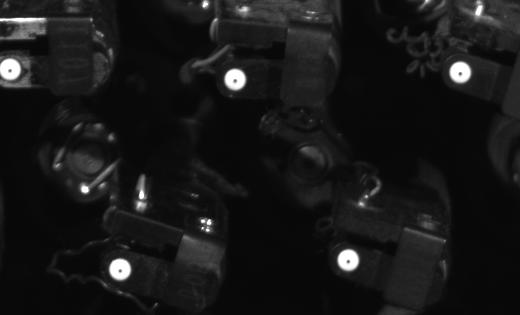fiber: (333, 245, 366, 276), (221, 65, 252, 96), (105, 255, 138, 283), (445, 58, 475, 87), (1, 55, 27, 85)
